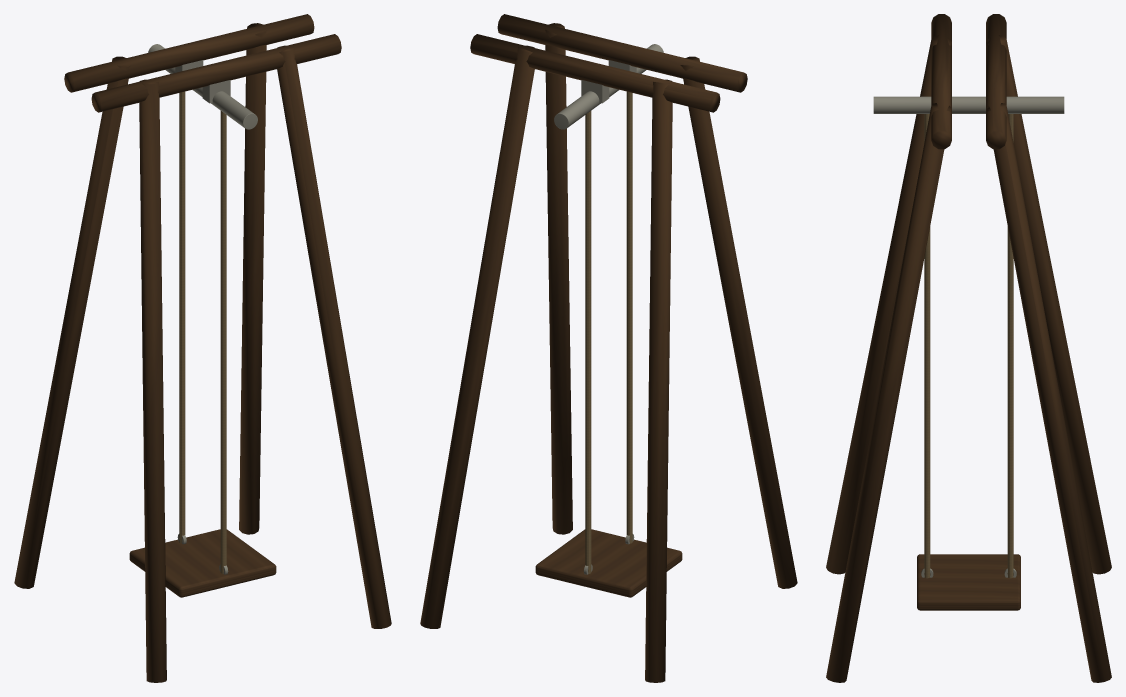
File: E03_Swing.fbx
3 views of the same model, side by side, from view 1: azimuth 30°, elevation 25°; view 2: azimuth 150°, elevation 25°; view 3: azimuth 270°, elevation 25° (orthographic).
Parts seen in each view (by area): view 1: Frame_Mesh, Seat_Mesh, RopeRight_Mesh, RopeLeft_Mesh; view 2: Frame_Mesh, Seat_Mesh, RopeLeft_Mesh, RopeRight_Mesh; view 3: Frame_Mesh, Seat_Mesh, RopeLeft_Mesh, RopeRight_Mesh.
Boxes of the visible parts, x1=… form: Frame_Mesh: x1=14, y1=14, x2=391, y2=682; Seat_Mesh: x1=129, y1=529, x2=276, y2=597; RopeRight_Mesh: x1=220, y1=111, x2=226, y2=573; RopeLeft_Mesh: x1=179, y1=91, x2=185, y2=543; Frame_Mesh: x1=420, y1=14, x2=797, y2=682; Seat_Mesh: x1=535, y1=529, x2=682, y2=597; RopeLeft_Mesh: x1=585, y1=111, x2=591, y2=573; RopeRight_Mesh: x1=626, y1=91, x2=632, y2=543; Frame_Mesh: x1=826, y1=14, x2=1111, y2=682; Seat_Mesh: x1=917, y1=554, x2=1020, y2=610; RopeLeft_Mesh: x1=1007, y1=114, x2=1013, y2=578; RopeRight_Mesh: x1=924, y1=114, x2=930, y2=578.
Bounding box in the file's own units: 0.1614 × 0.3522 × 0.1648.
